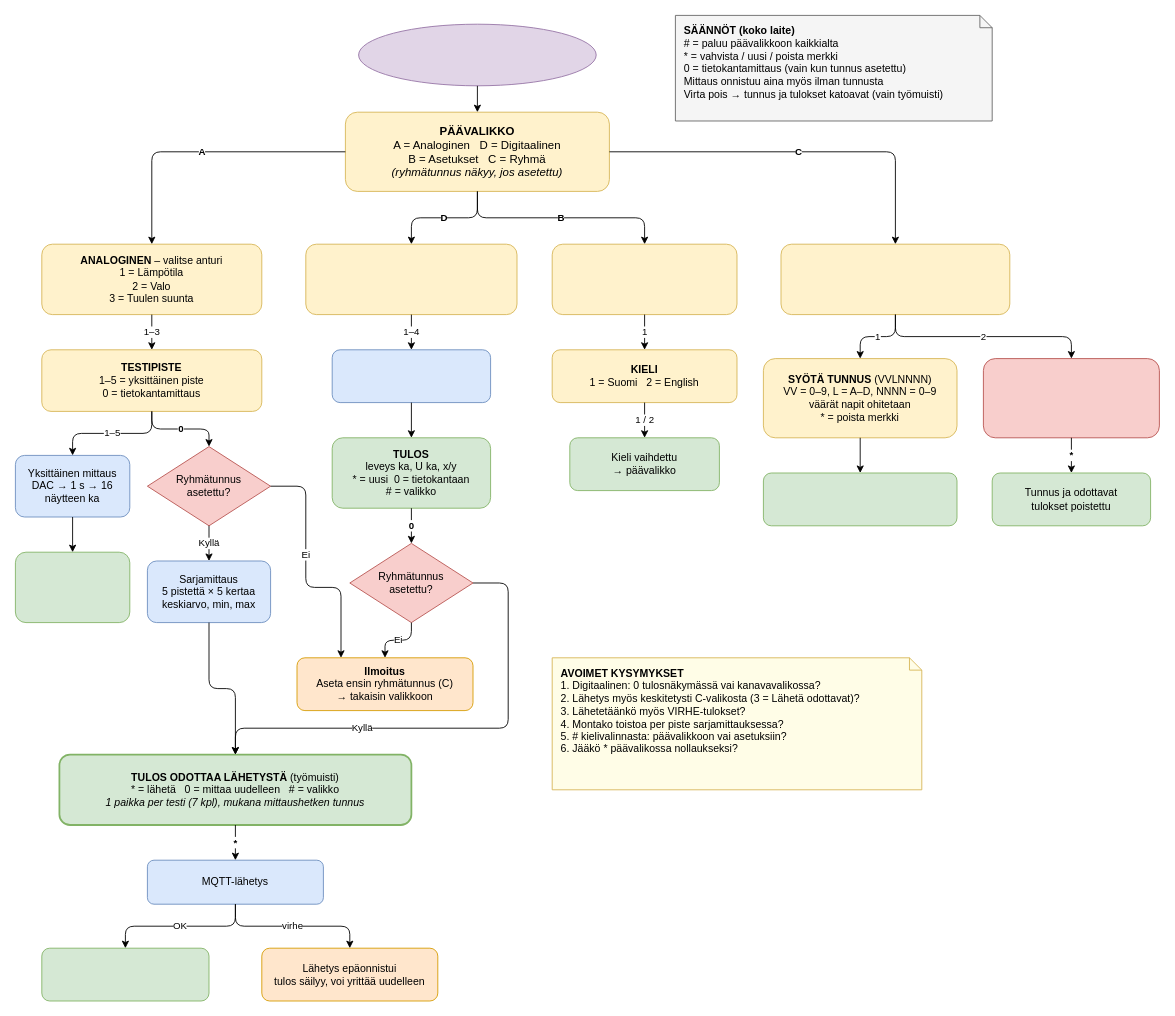
Image size: 1175x1016. Some labels were removed from this diagram. The shapes that lost their labels are listed below. From the top down, each one's centre as x and y in pixels, then its label:
pixel 477 54: Käynnistys virta päälle: tunnus ja tulokset tyhjiä
pixel 411 279: DIGITAALINEN – valitse kanava 1 = Tuuli 2 = Sade 3 = Sisäkosteus 4 = Ulkokosteus
pixel 644 279: ASETUKSET 1 = Kieli (myöhemmin: 2 = Verkko, 3 = Laitetiedot)
pixel 895 279: RYHMÄ 1 = Syötä tunnus 2 = Tyhjennä Nykyinen: 26A1234 / ei asetettu
pixel 411 376: Mittaus käynnissä (4 s) # = keskeytä
pixel 1071 398: TYHJENNÄ Poistetaanko tunnus ja odottavat tulokset? * = kyllä # = ei
pixel 860 499: 7. merkki → tallennus automaattisesti "Tallennettu: 26A1234"
pixel 72 587: TULOS OK / VIRHE * = uusi # = valikko ei tallennu
pixel 125 974: Lähetetty ✓ tulos poistetaan muistista
